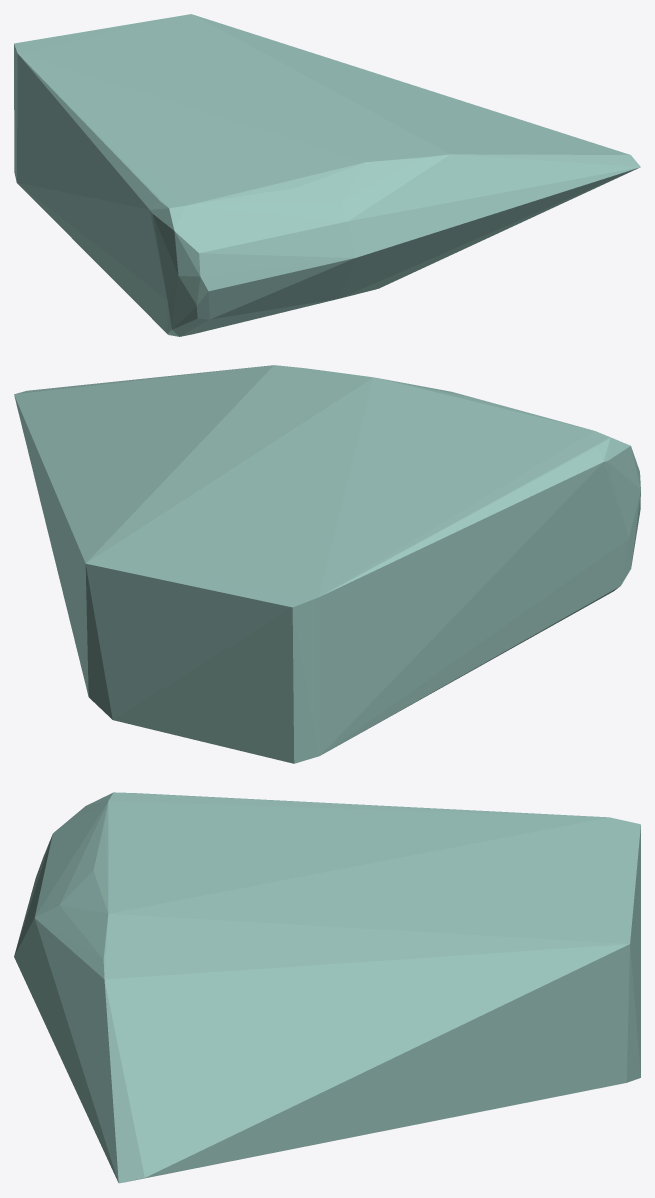
The model's file is powerTool_impact_wrench_b01.glb.
3 renders of one model, top to bottom at view 1: azimuth 30°, elevation 25°; view 2: azimuth 150°, elevation 25°; view 3: azimuth 270°, elevation 25°, orthographic. The views are drawn at different scales.
Parts seen in each view (by area): view 1: geometry_0; view 2: geometry_0; view 3: geometry_0.
Part boxes in pixels (<box>): geometry_0: <box>14,14,640,336</box>; geometry_0: <box>14,365,640,763</box>; geometry_0: <box>14,792,640,1183</box>.
Size of the model in its own units: 0.4796 by 0.1235 by 0.4241.
